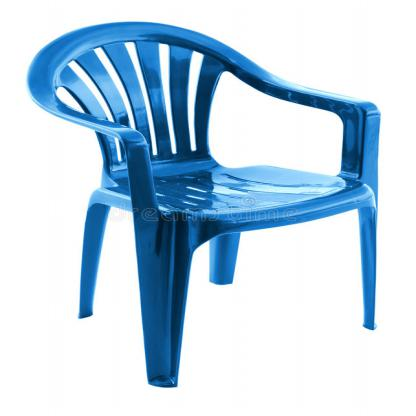chair: (23, 19, 398, 394)
